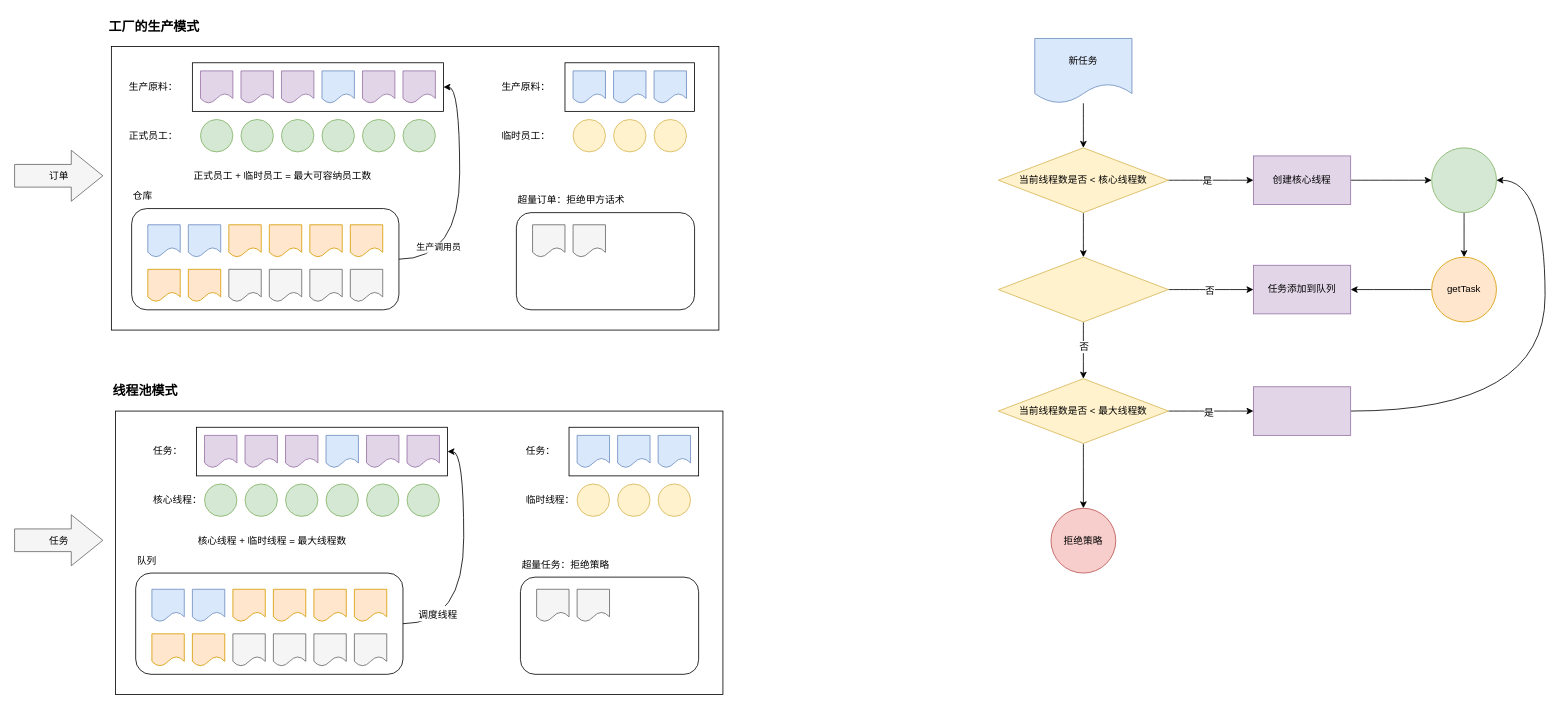
This 1559x709 diagram has some shape labels left out. The centre of each missing label's shape, as x and y in pixels:
"任务队列是否满" goes at (x=1083, y=289).
"创建临时线程" goes at (x=1302, y=410).
"执行任务" goes at (x=1463, y=180).
